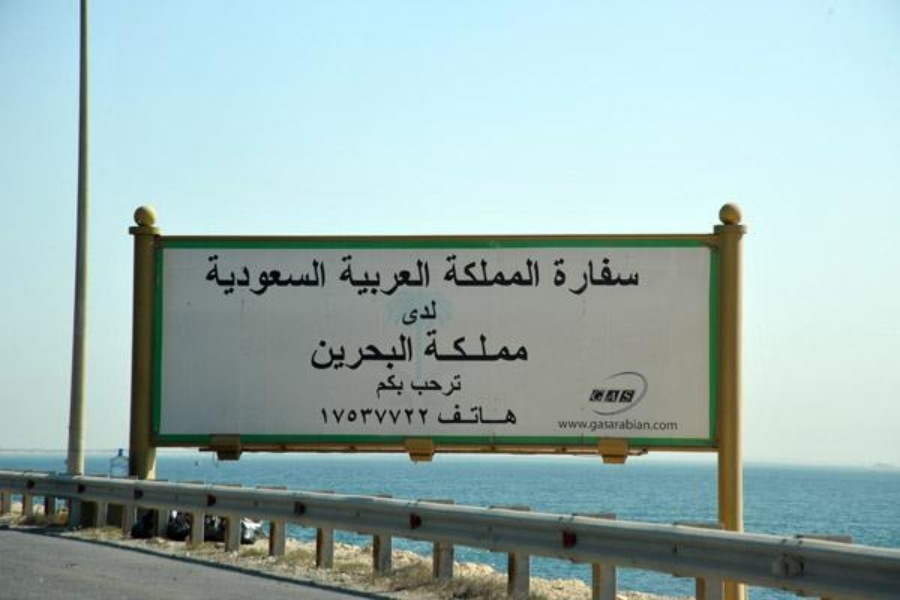text: (353, 254, 368, 298), (369, 254, 384, 298), (385, 254, 400, 298), (401, 254, 416, 298), (209, 254, 224, 298), (225, 254, 240, 298), (241, 254, 256, 298), (257, 254, 272, 298), (273, 254, 288, 298), (289, 254, 304, 298), (305, 254, 320, 298), (338, 254, 352, 298), (417, 254, 431, 298), (321, 332, 336, 373), (337, 332, 352, 373), (353, 332, 368, 373), (369, 332, 384, 373), (385, 332, 400, 373), (561, 256, 576, 296), (577, 256, 592, 296), (593, 256, 608, 296), (609, 256, 624, 296), (625, 256, 640, 296), (513, 328, 529, 365), (449, 253, 464, 290), (465, 253, 480, 290), (481, 253, 496, 290), (497, 253, 512, 290), (513, 253, 528, 290), (433, 328, 448, 365), (449, 328, 464, 365), (465, 328, 480, 365), (481, 328, 496, 365), (497, 328, 512, 365), (401, 332, 413, 373), (529, 253, 542, 290), (401, 299, 416, 326), (417, 299, 432, 326), (385, 374, 400, 401), (422, 328, 432, 365), (311, 332, 320, 373), (417, 374, 432, 398), (433, 374, 448, 398), (449, 374, 463, 398), (449, 404, 464, 425), (465, 404, 480, 425), (481, 404, 496, 425), (497, 404, 512, 425), (321, 254, 328, 298), (321, 407, 336, 427), (337, 407, 352, 427), (353, 407, 368, 427), (369, 407, 384, 427), (385, 407, 400, 427), (401, 407, 416, 427), (553, 256, 560, 296), (417, 407, 431, 427), (561, 417, 576, 433), (577, 417, 592, 433), (593, 417, 608, 433), (609, 417, 624, 433), (625, 417, 640, 433), (641, 417, 656, 433), (657, 417, 672, 433), (437, 404, 448, 425), (593, 389, 608, 404), (609, 389, 624, 404), (376, 374, 384, 401), (433, 299, 439, 326), (401, 374, 407, 401), (625, 389, 635, 404), (410, 374, 416, 398), (205, 254, 208, 298), (673, 417, 680, 433), (445, 253, 448, 290), (513, 404, 518, 425), (556, 417, 560, 433), (590, 389, 592, 404), (319, 407, 320, 427)
